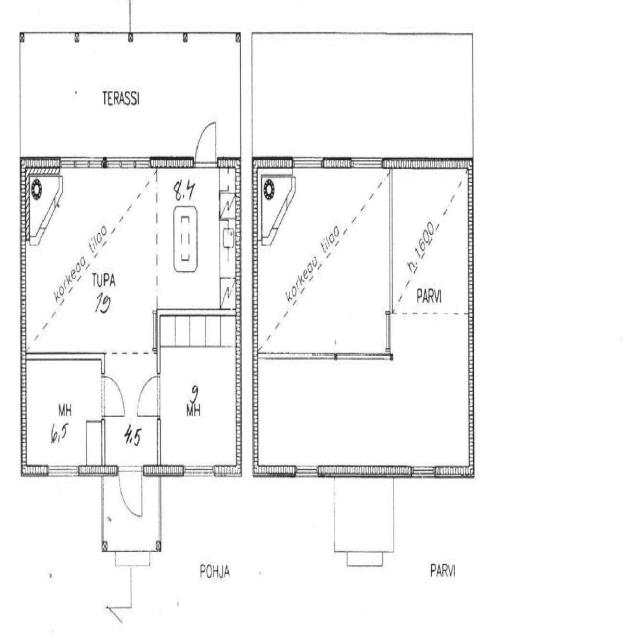door: (116, 461, 146, 524), (192, 115, 219, 172), (134, 368, 162, 422), (100, 369, 126, 422), (379, 308, 394, 356)
window: (62, 151, 105, 176), (104, 151, 147, 175), (181, 459, 216, 485), (45, 461, 81, 484), (348, 153, 384, 175), (290, 152, 325, 174), (378, 309, 394, 354), (410, 461, 437, 484), (293, 462, 321, 484)
zone: (257, 164, 392, 357), (23, 166, 160, 354), (255, 356, 473, 470), (157, 316, 240, 474), (390, 167, 470, 319), (162, 165, 238, 314), (21, 357, 105, 473), (333, 476, 394, 566), (258, 166, 293, 246)
